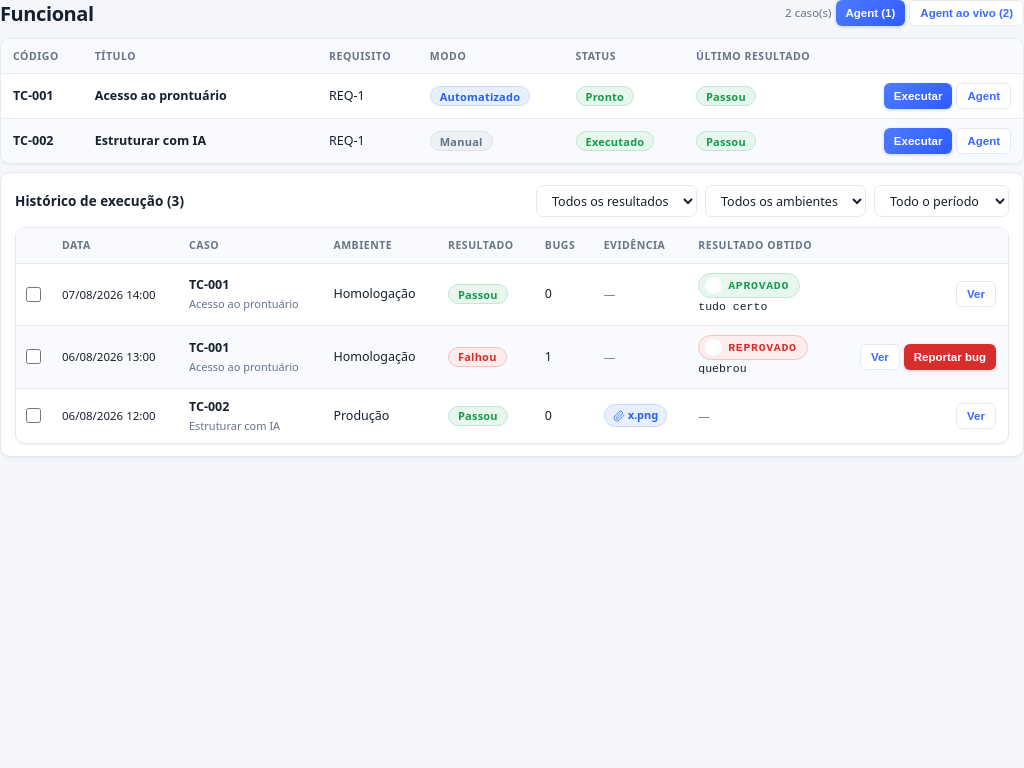
it: Execution — tabela de casos › abre o modal de execução manual ao clicar em Executar
Click the button "Executar" in the row of "Automatizado": (918, 96) [884,83,952,109]
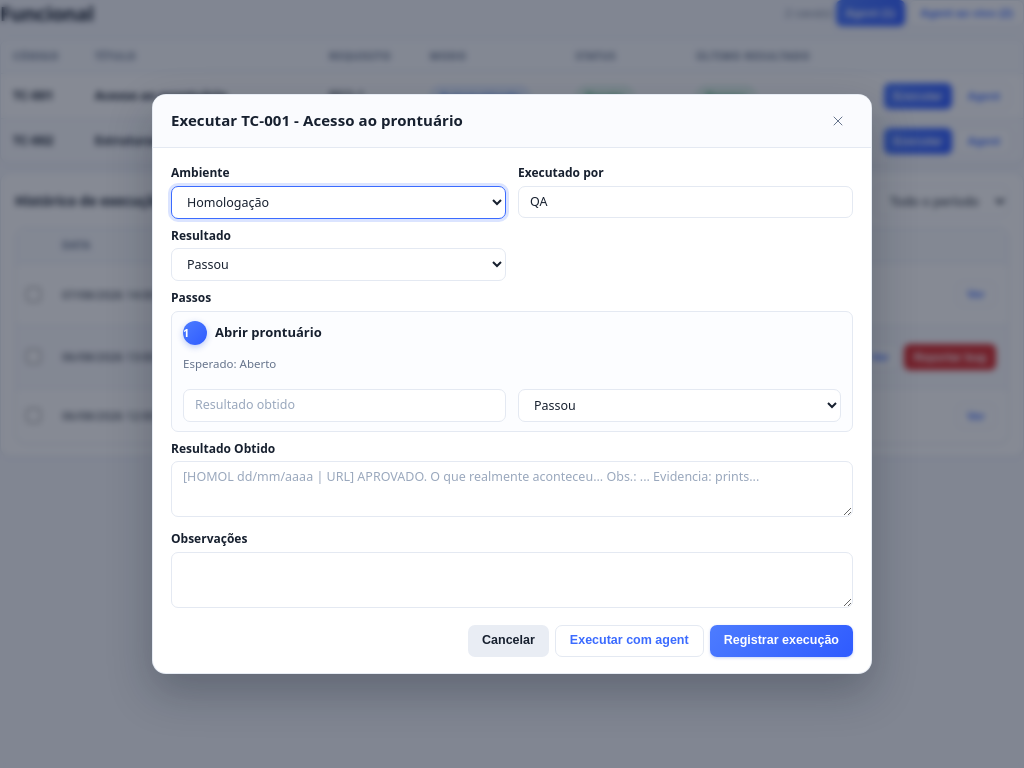
Expected: the dialog is shown, [152,94,872,674]
Expected: the heading "Executar TC-001 - Acesso ao prontuário" is shown, [171,109,463,133]
